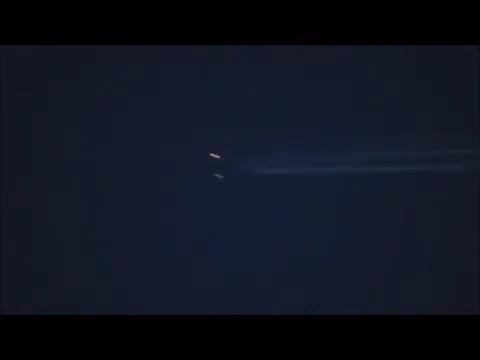Plane: (197, 138, 460, 191)
